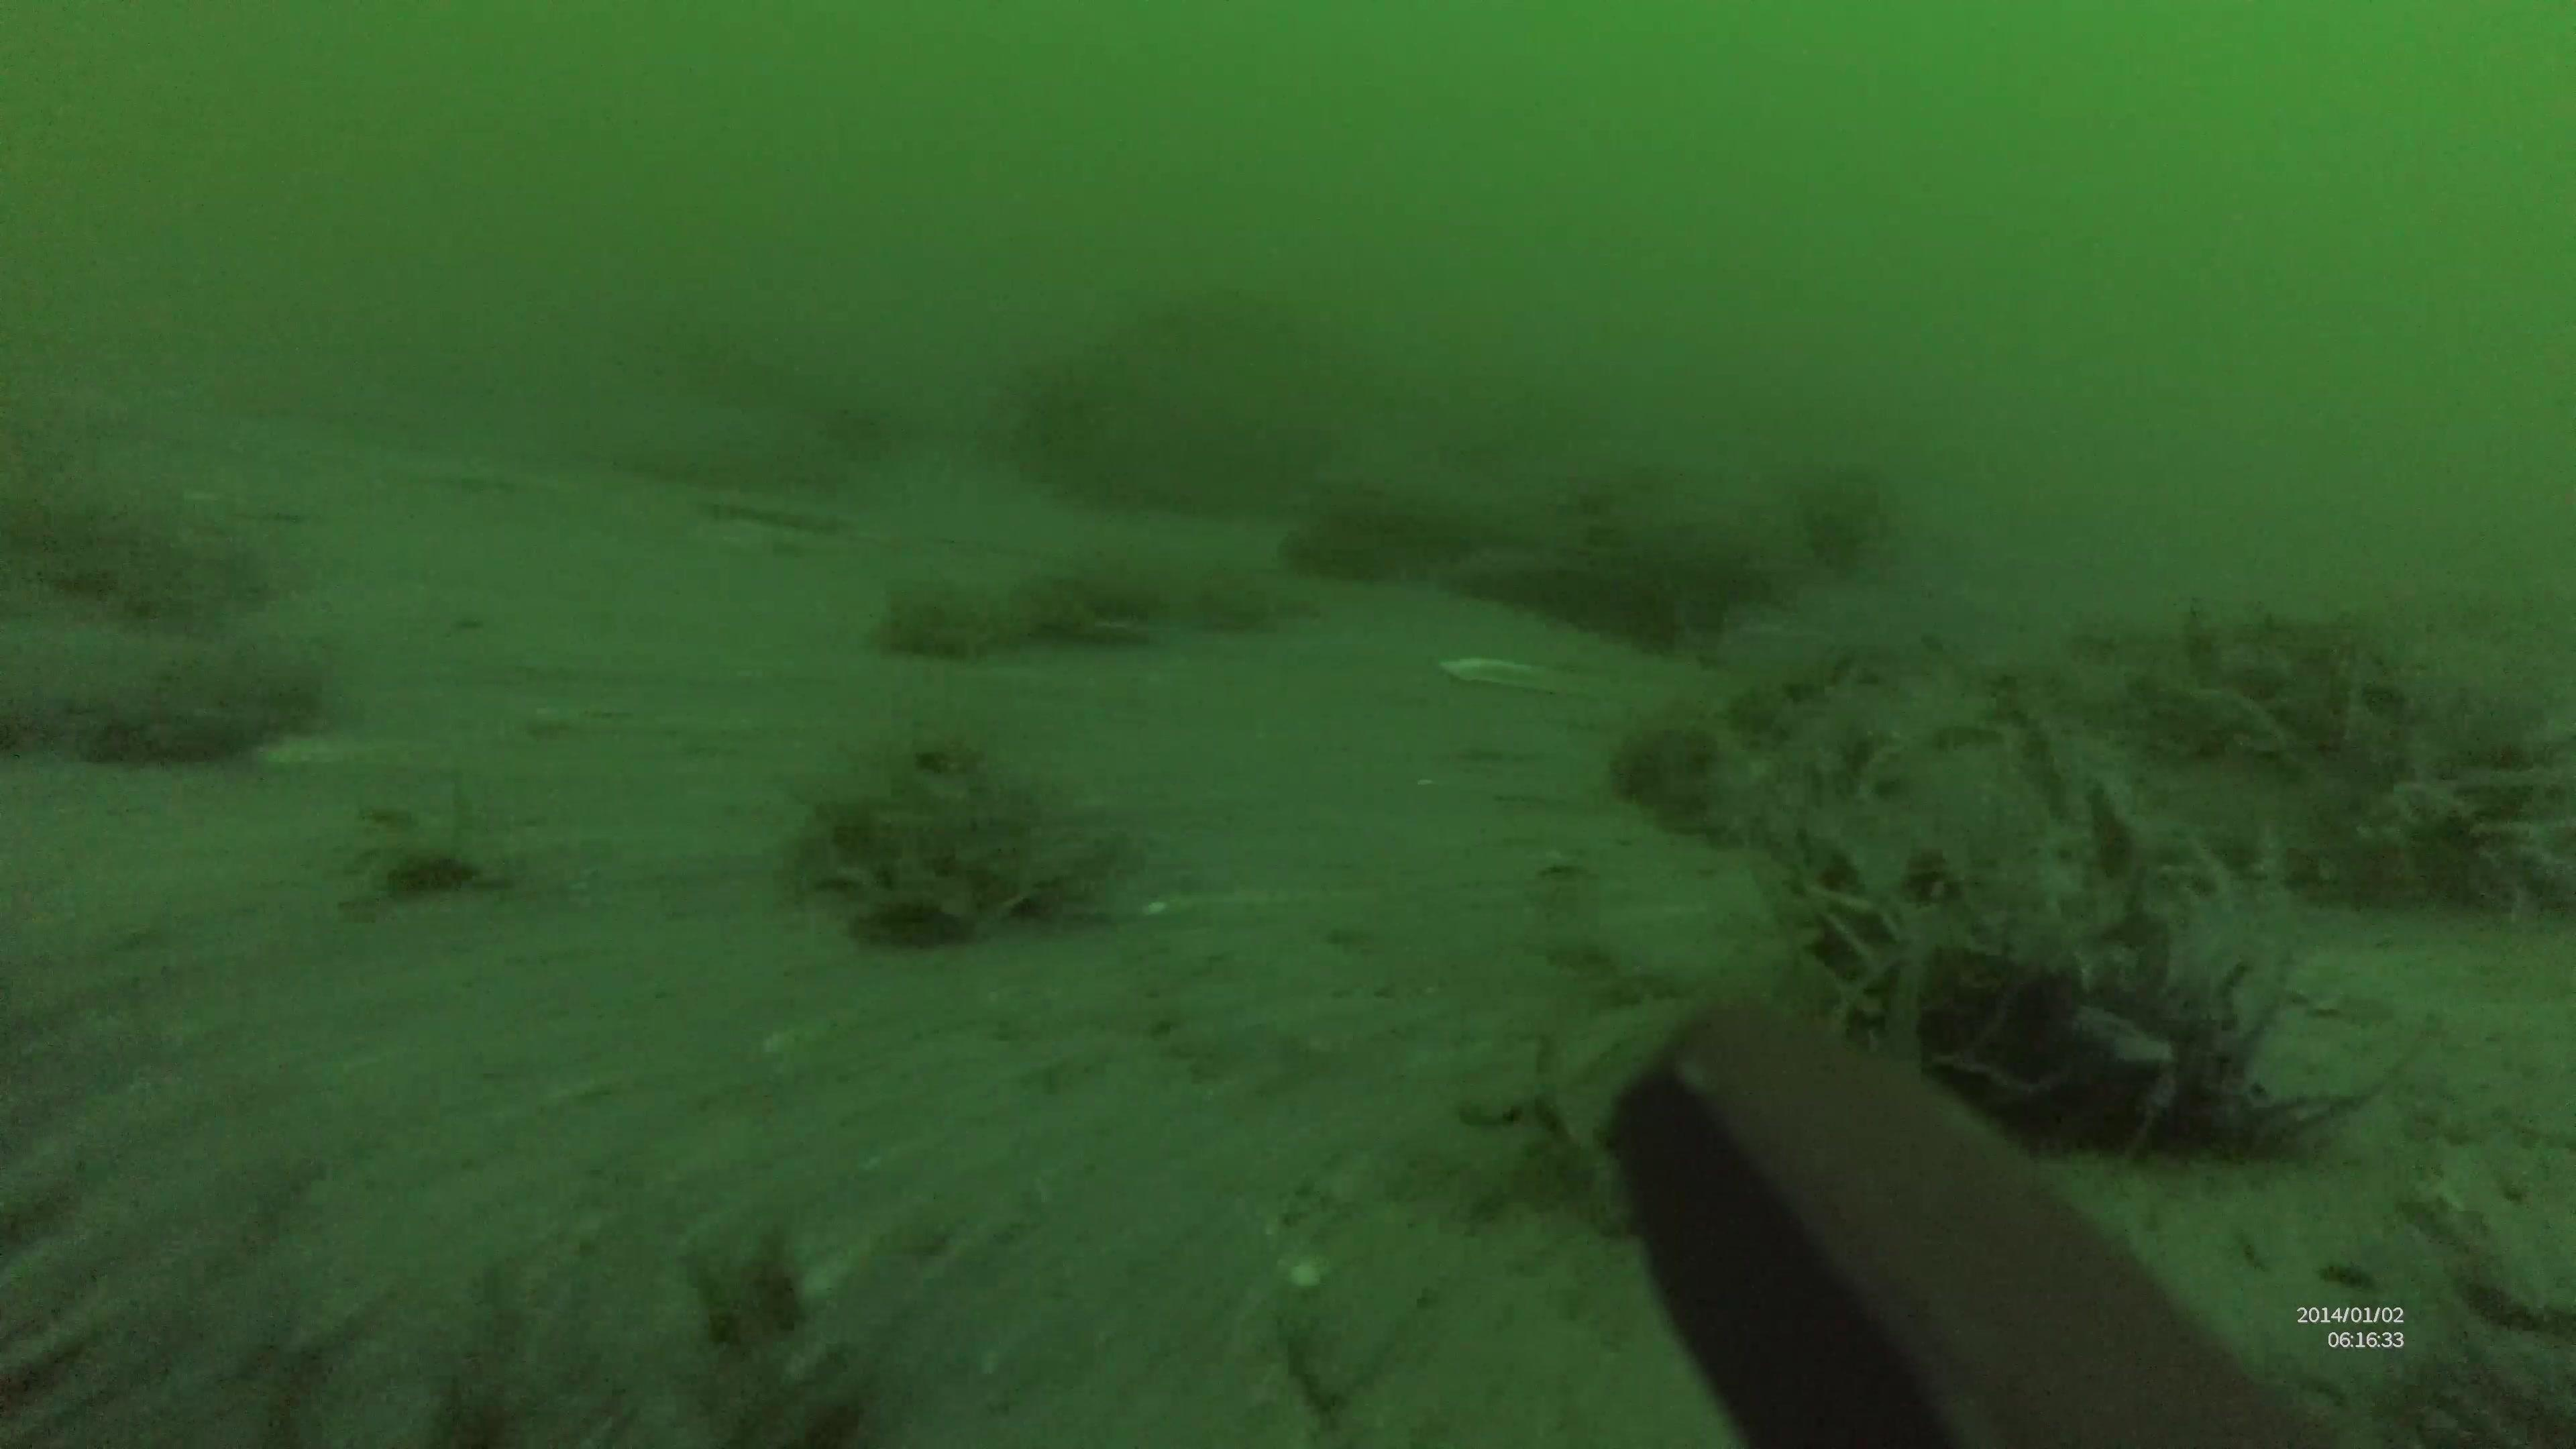scallop: (2279, 957, 2408, 1037), (1440, 658, 1571, 699)
